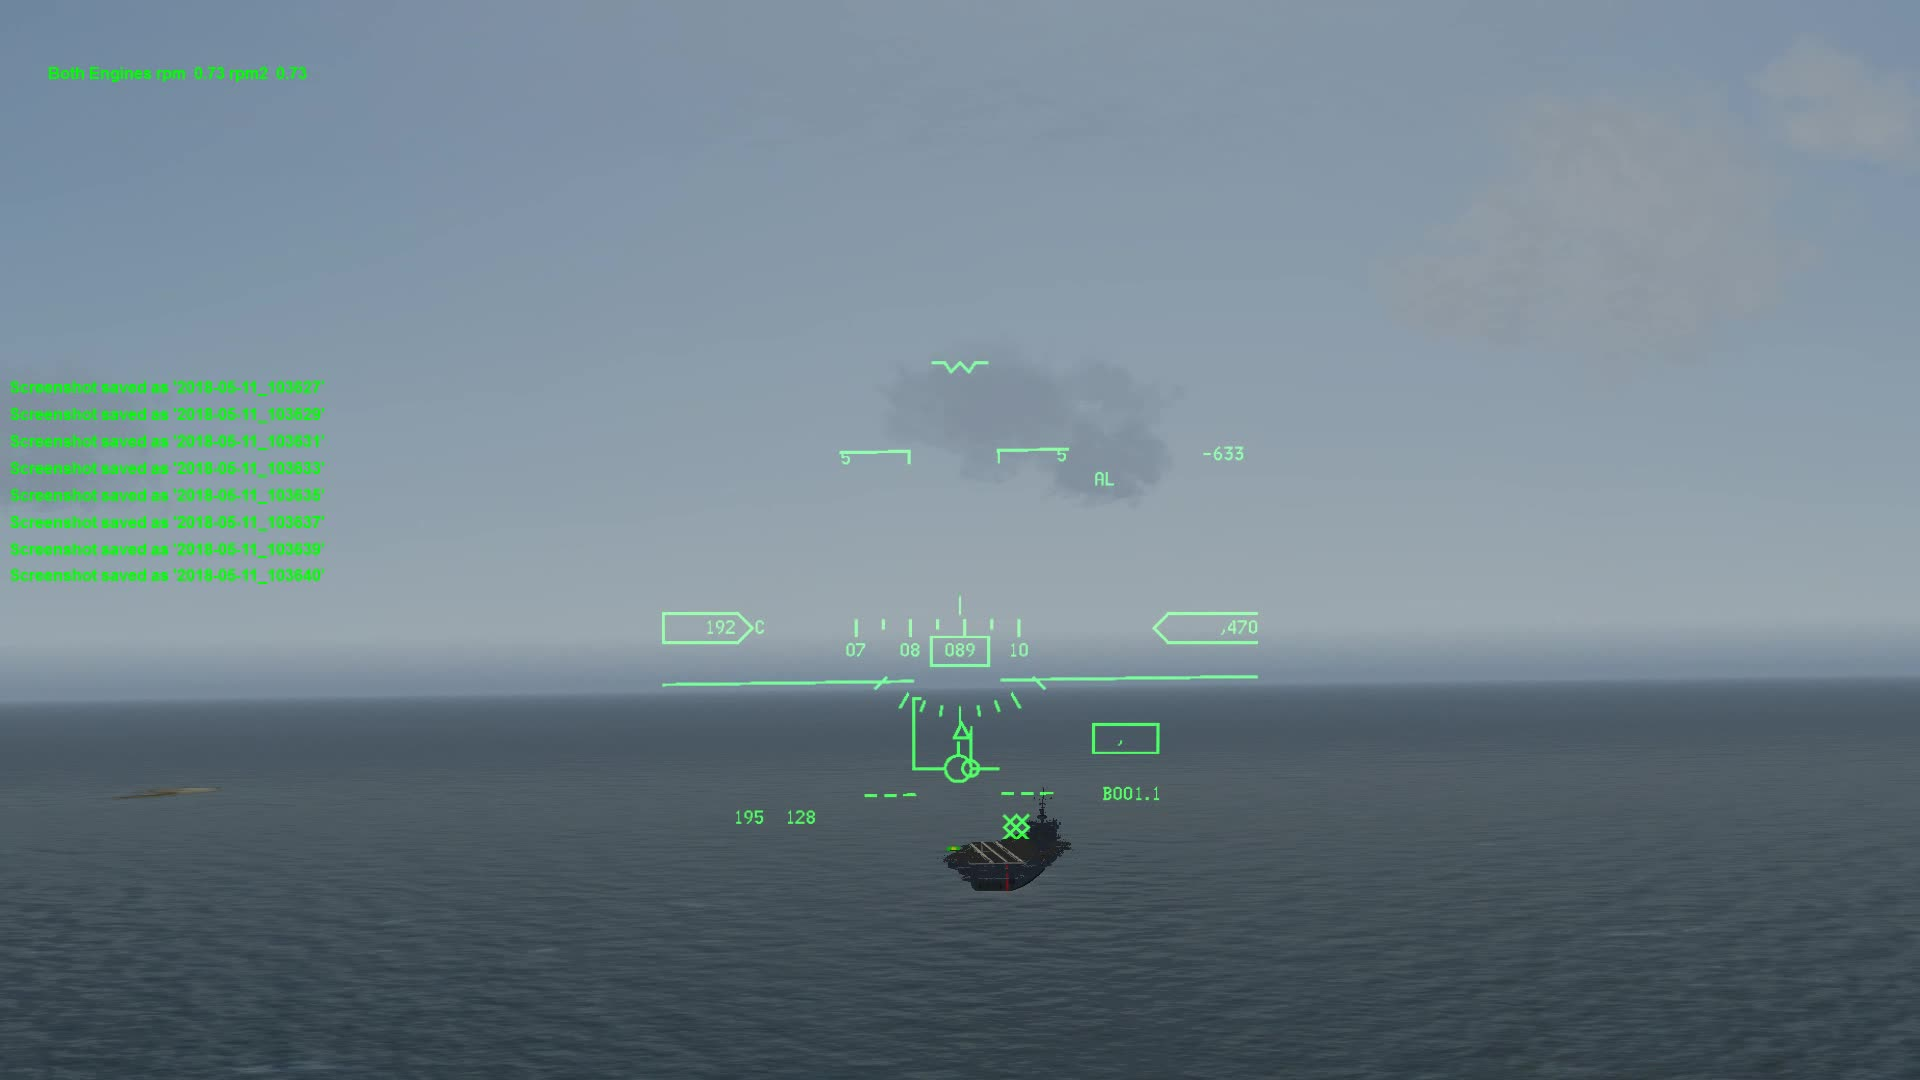speed vector: (902, 738, 1017, 785)
